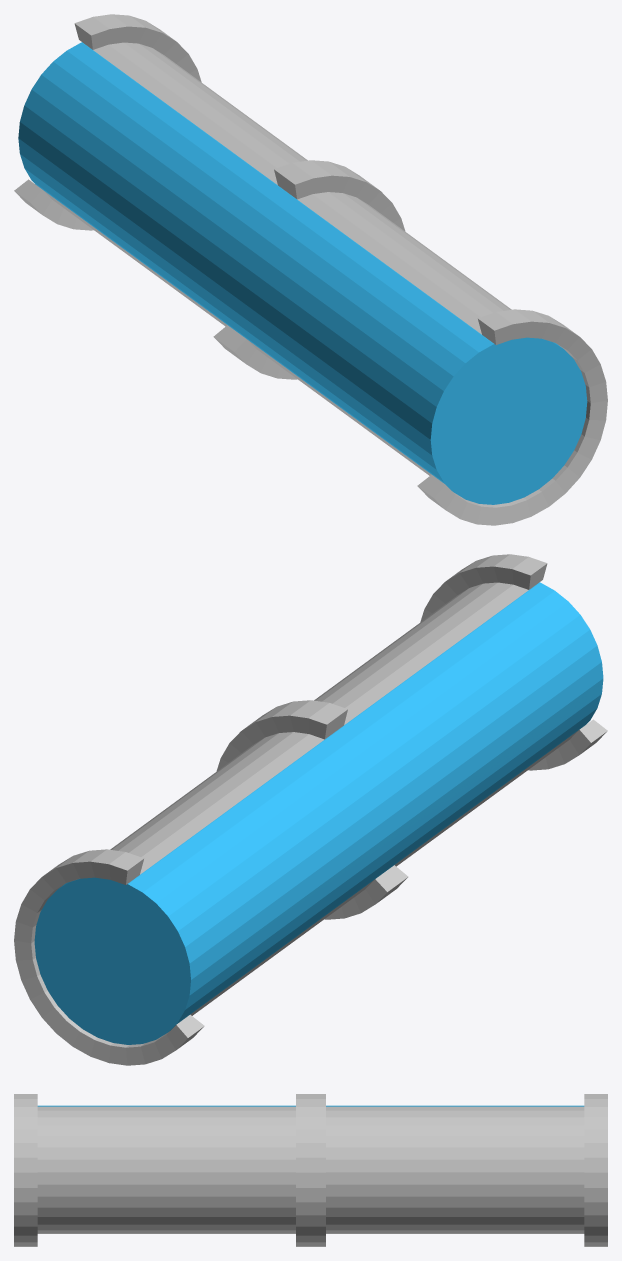
File: Disinfeksi.fbx
3 renders of one model, top to bottom at view 1: azimuth 30°, elevation 25°; view 2: azimuth 150°, elevation 25°; view 3: azimuth 270°, elevation 25°, orthographic. The views are drawn at different scales.
Visible parts, largest first — view 1: Cylinder.001, Cylinder; view 2: Cylinder.001, Cylinder; view 3: Cylinder, Cylinder.001.
Part boxes in pixels (x1=…): Cylinder.001: x1=18, y1=42, x2=587, y2=504; Cylinder: x1=14, y1=14, x2=607, y2=525; Cylinder.001: x1=34, y1=582, x2=603, y2=1044; Cylinder: x1=14, y1=554, x2=607, y2=1065; Cylinder: x1=14, y1=1094, x2=607, y2=1246; Cylinder.001: x1=37, y1=1105, x2=584, y2=1106.
Size of the model in its own units: 220 by 240 by 919.
